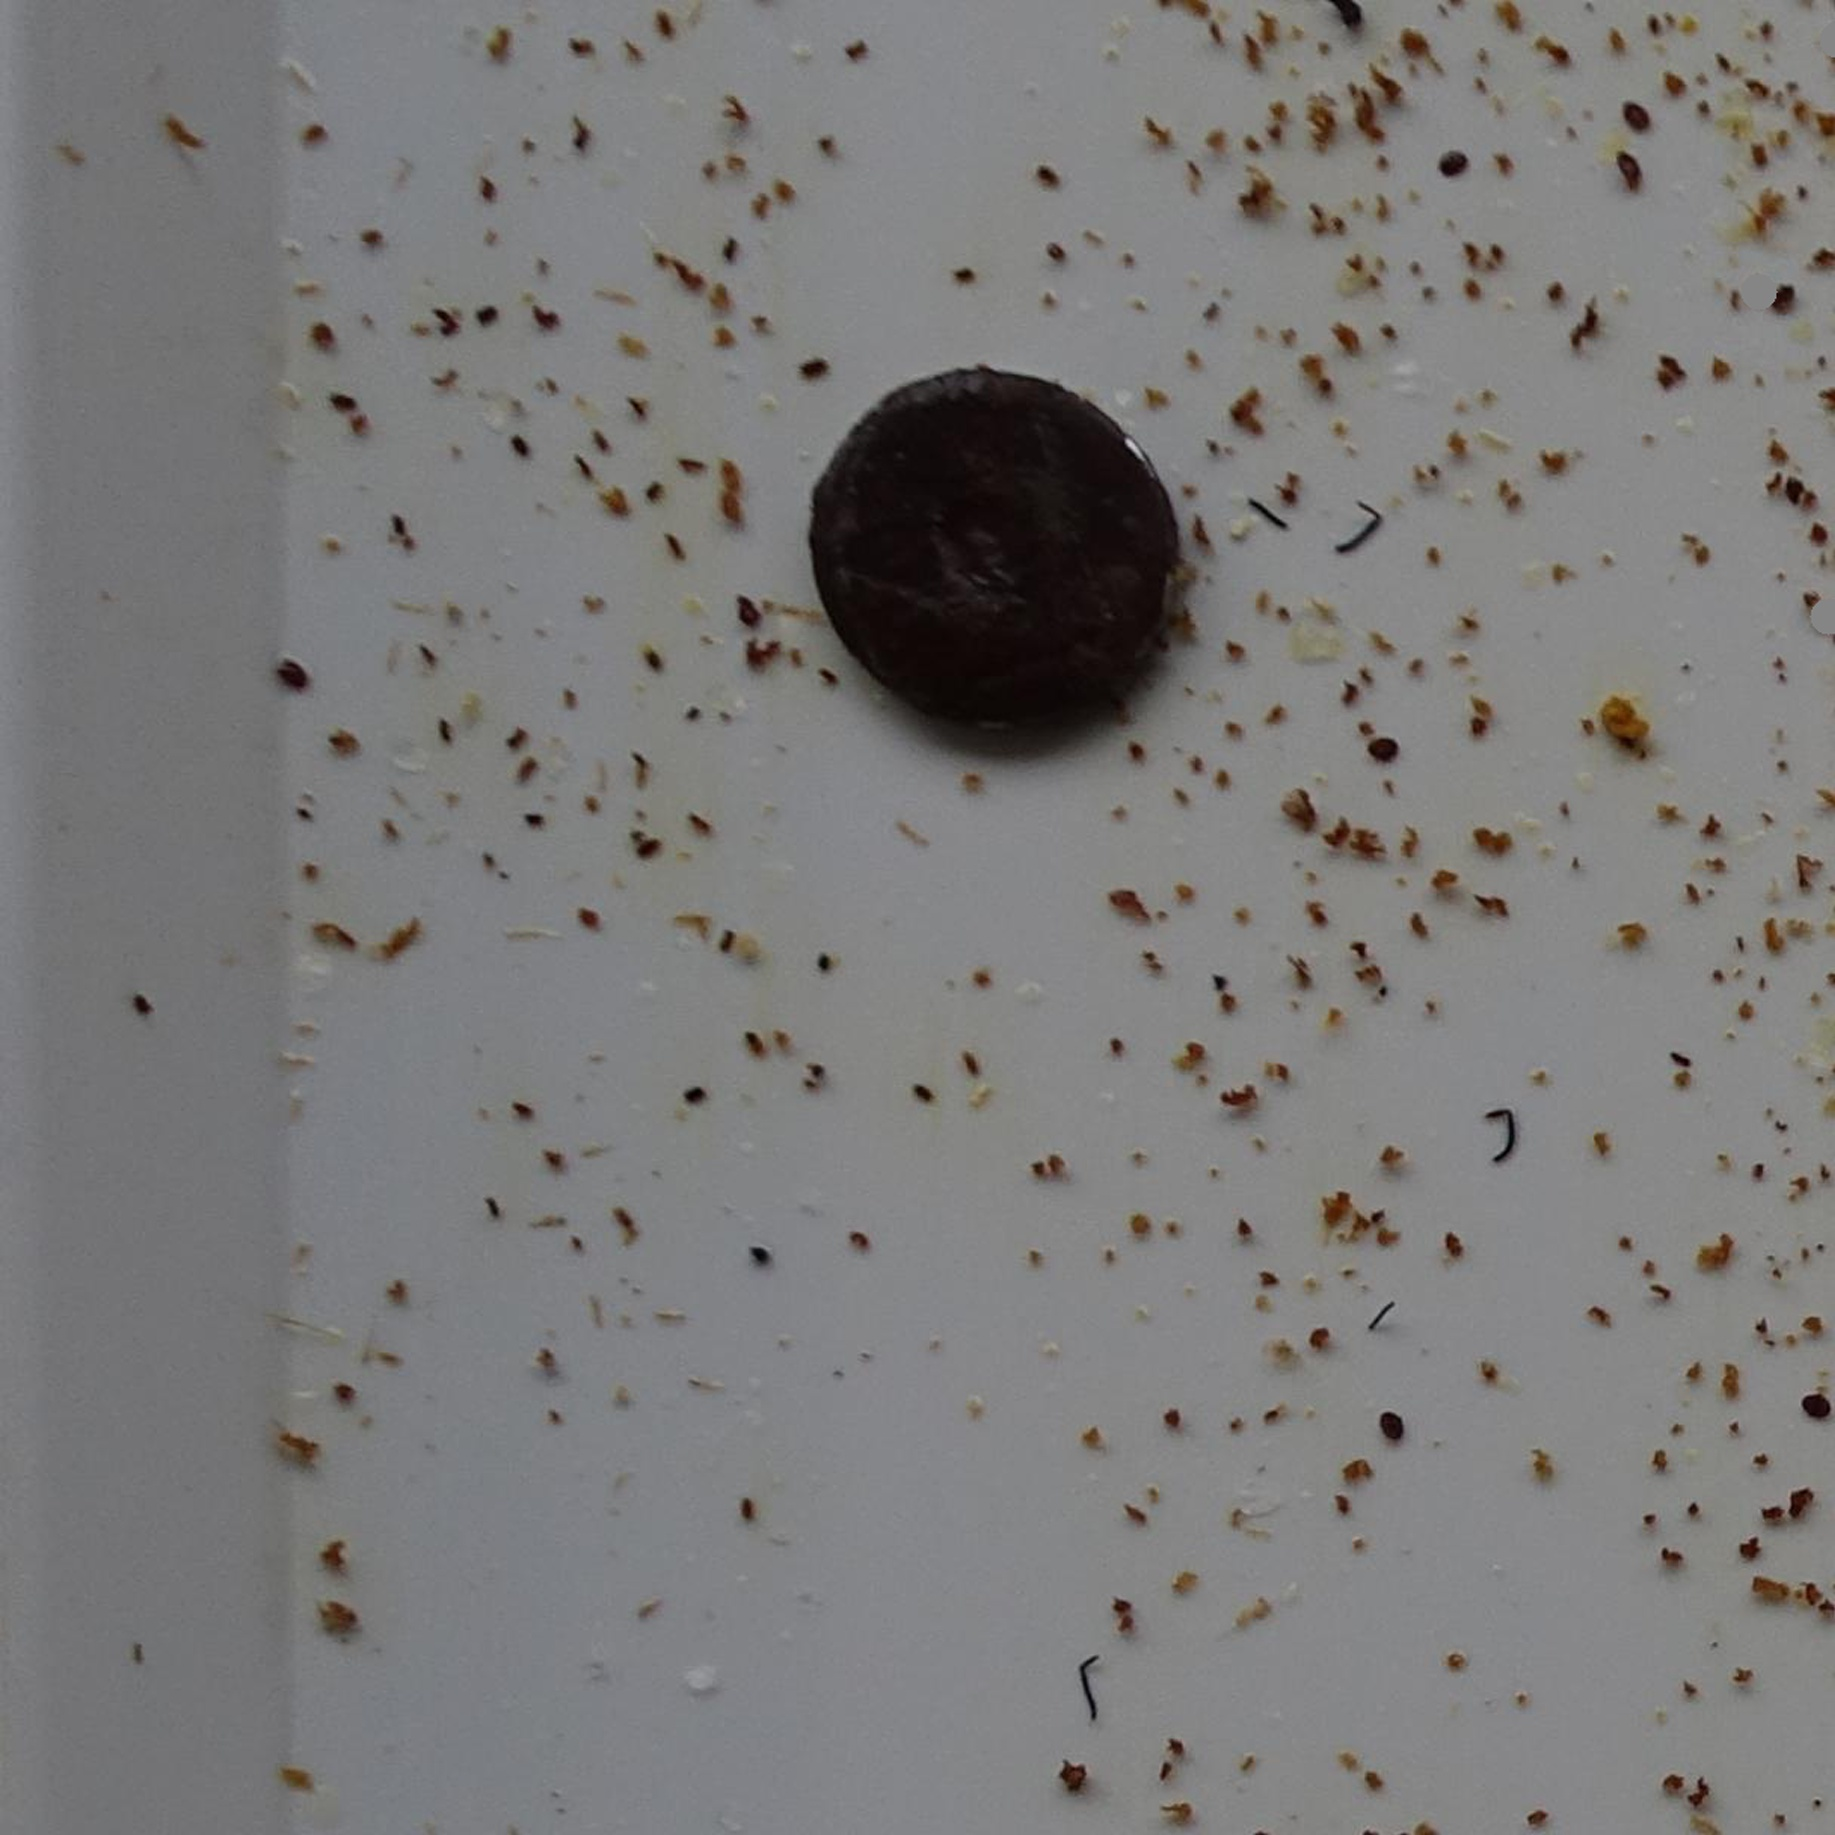Varroa: (1612, 145, 1648, 187), (1438, 155, 1469, 183), (1798, 1390, 1827, 1420), (1380, 1410, 1405, 1437), (1622, 103, 1647, 129), (1370, 734, 1395, 760)
